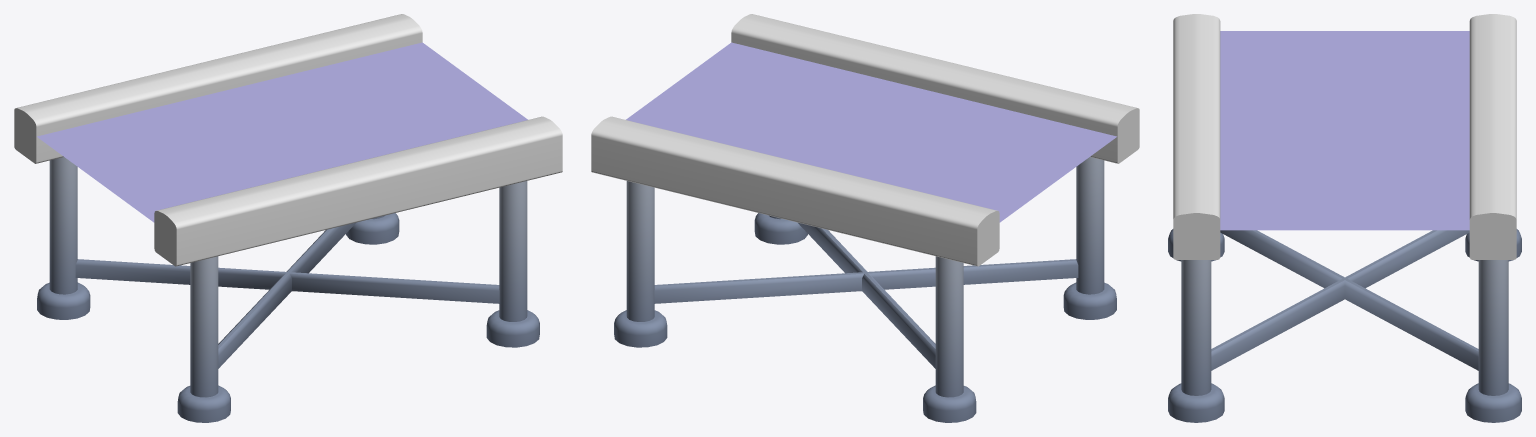
Rendered from Rail_Line.fbx.
3 renders of one model, left to right at view 1: azimuth 30°, elevation 25°; view 2: azimuth 150°, elevation 25°; view 3: azimuth 270°, elevation 25°, orthographic. The views are drawn at different scales.
Parts seen in each view (by area): view 1: Rail_Line; view 2: Rail_Line; view 3: Rail_Line.
Part boxes in pixels (box(x1,y1,x2,y2)): Rail_Line: box(14, 14, 562, 422); Rail_Line: box(591, 14, 1139, 422); Rail_Line: box(1168, 14, 1521, 422).
Size of the model in its own units: 100 by 51 by 75.12.
